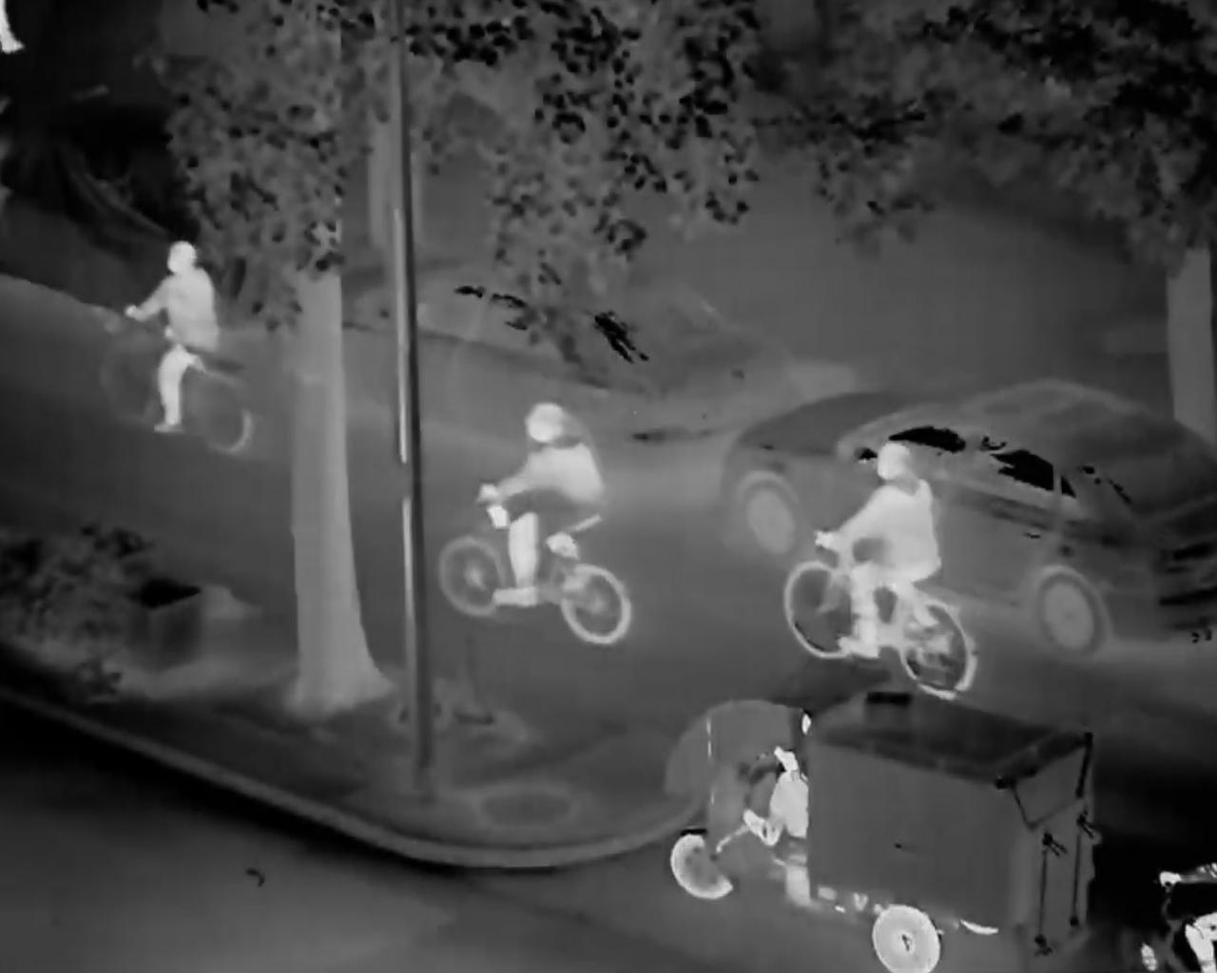person: (815, 437, 950, 683), (471, 396, 614, 619), (124, 237, 236, 465), (740, 735, 806, 849)
